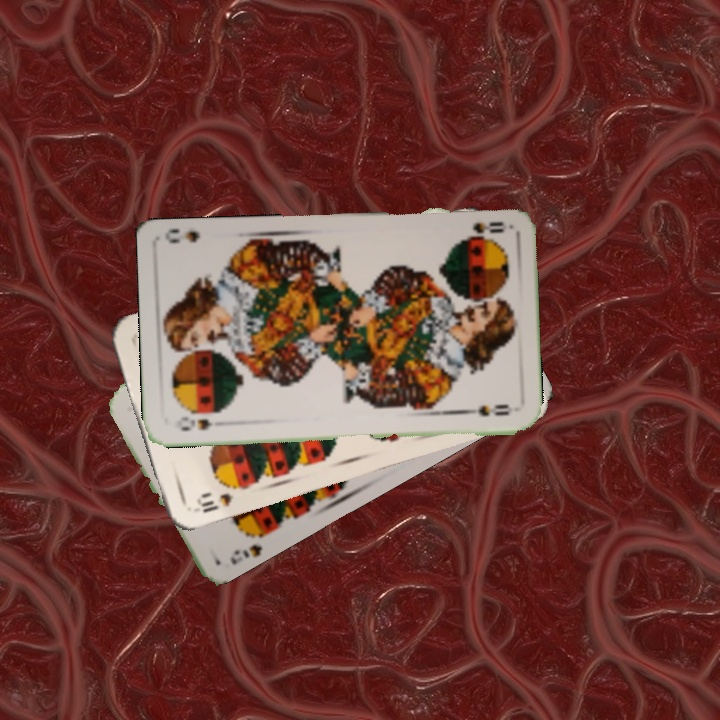S10: (192, 489, 235, 515)
S9: (225, 524, 272, 568)
SO: (456, 217, 507, 243), (172, 413, 216, 433)
